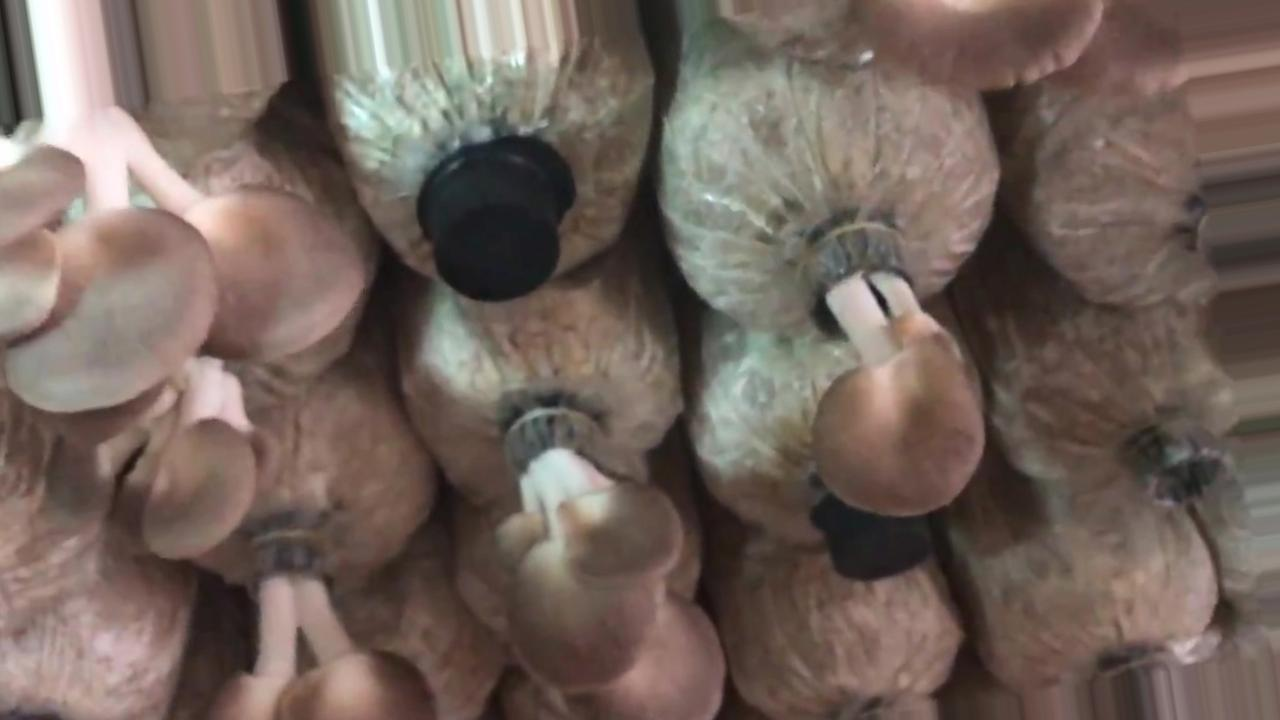nam: (1, 3, 358, 412), (492, 411, 720, 720), (811, 223, 984, 516), (50, 356, 274, 554), (213, 533, 436, 719), (858, 1, 1187, 91)
